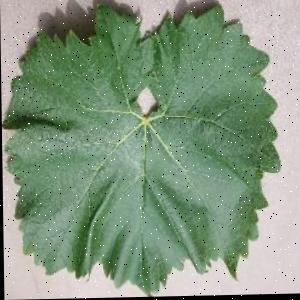Folha: (0, 1, 281, 300)
